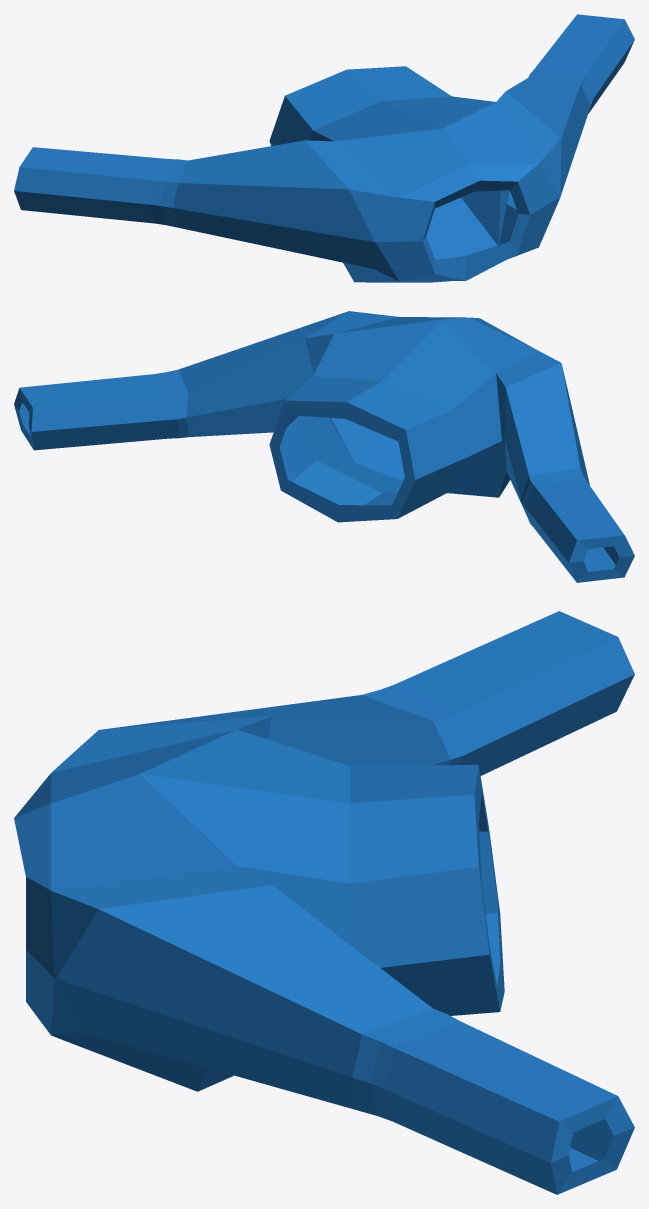
File: shirt2.obj
The picture shows the model from 3 angles, top to bottom: view 1: azimuth 30°, elevation 25°; view 2: azimuth 150°, elevation 25°; view 3: azimuth 270°, elevation 25°; orthographic projection. The views are drawn at different scales.
Visible parts, largest first — view 1: long_sleeve; view 2: long_sleeve; view 3: long_sleeve.
Part boxes in pixels (box(x1,y1,x2,y2)): long_sleeve: box(14, 14, 634, 282); long_sleeve: box(14, 311, 634, 582); long_sleeve: box(14, 611, 634, 1194).
Size of the model in its own units: 8.43 by 2.12 by 4.22.
